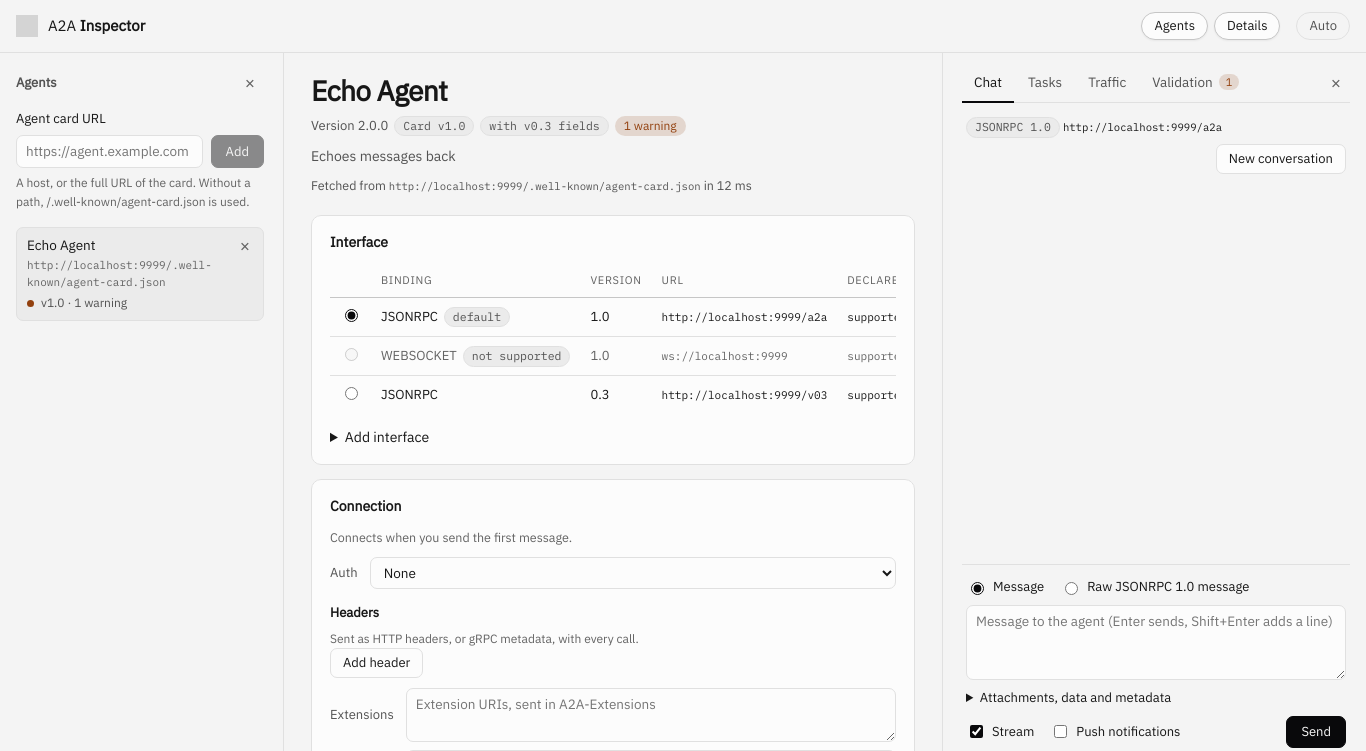
Test: App › talking to agents › does not offer ListTasks for v0.3 interfaces
Expected: the heading "Echo Agent" is shown, [311,72,447,109]
What coordinates should you click on to do the following:
click the radio button named "JSONRPC 0.3 at http://localhost:9999/v03"
I would click on:
 (352, 394)
Its box is [345,388,358,400].
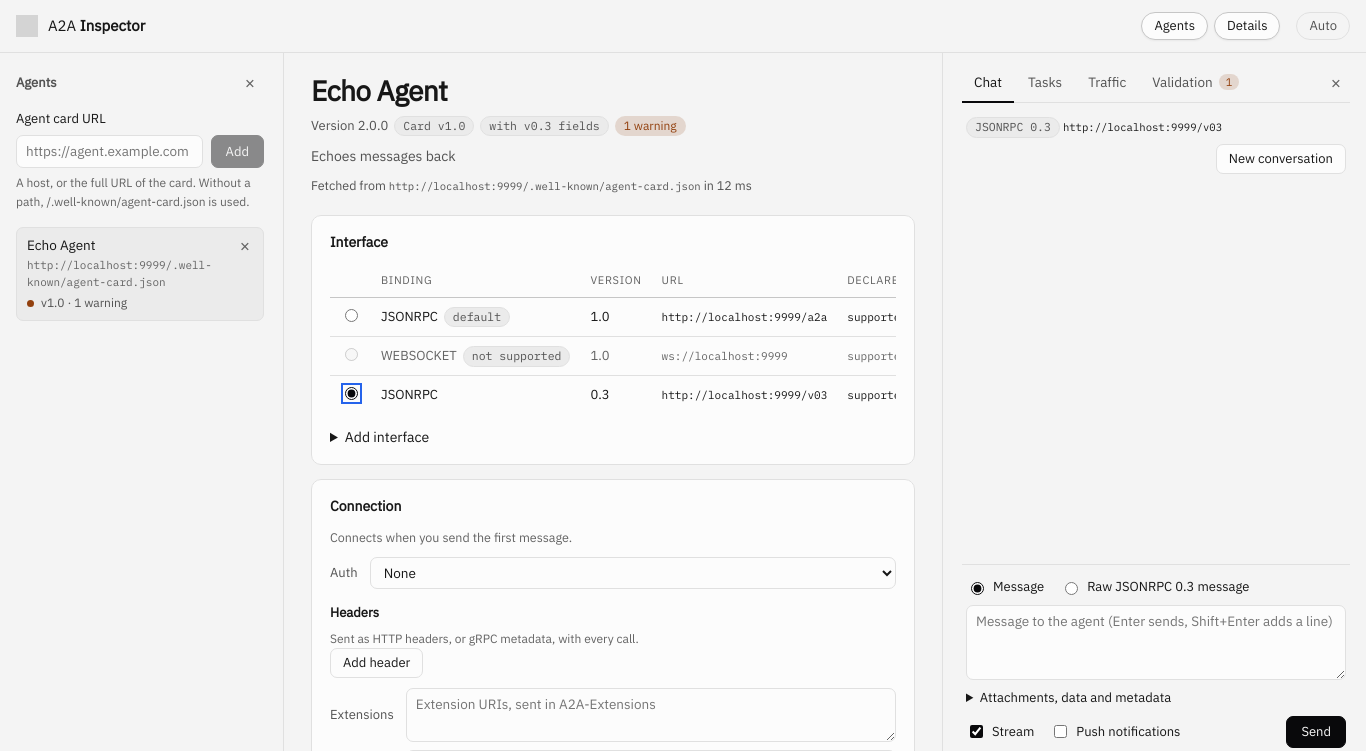
What coordinates should you click on to do the following:
click the tab "Tasks"
I would click on:
 (1045, 83)
Its box is [1016,62,1074,103].
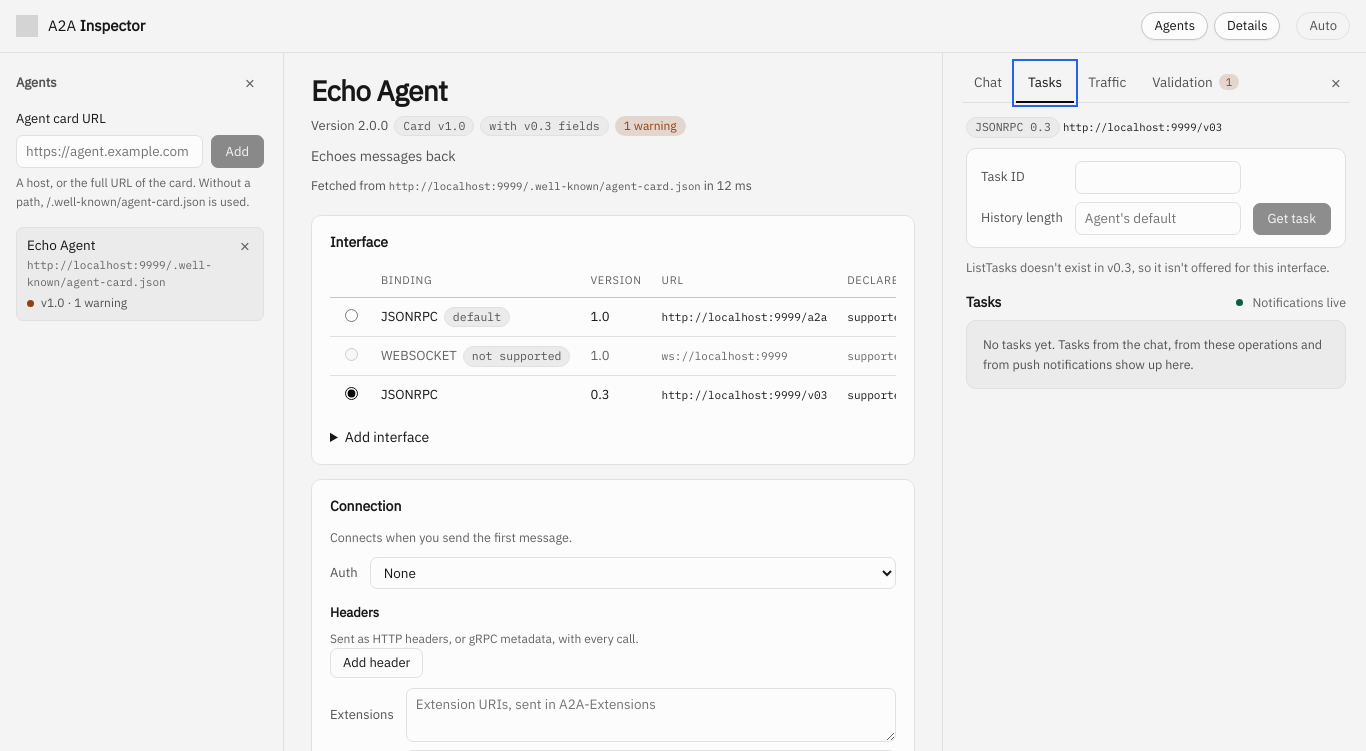
Result: the text "ListTasks doesn't exist in v0.3" is shown at [966,259,1330,275]
